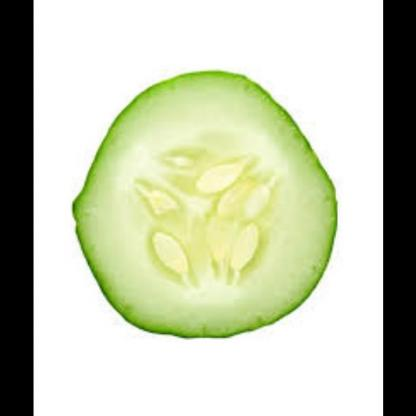cucumber: (77, 66, 351, 346)
